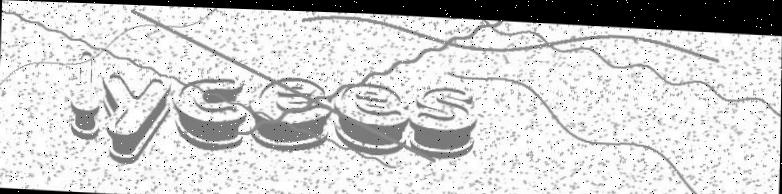c: (171, 73, 249, 152)
e: (248, 72, 332, 150), (333, 76, 411, 155)
l: (68, 47, 103, 140)
s: (410, 81, 479, 158)
y: (100, 72, 171, 165)
